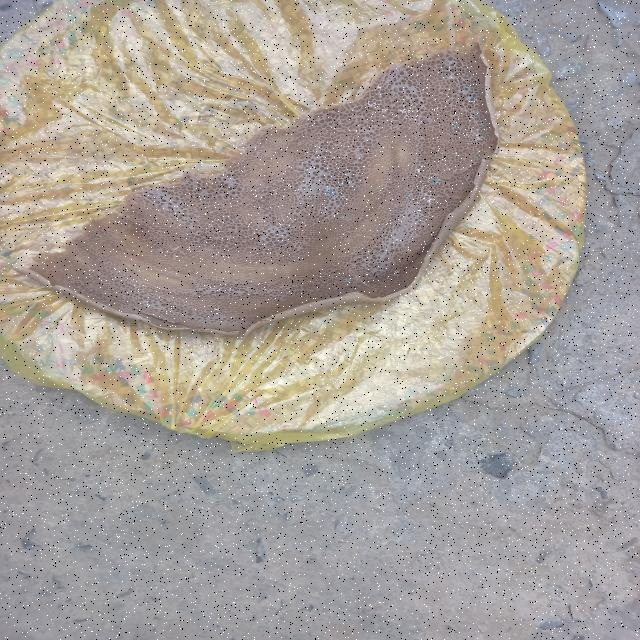injera_mold: (468, 127, 484, 145), (397, 104, 412, 120), (365, 95, 382, 108), (424, 193, 434, 206), (428, 176, 442, 185), (392, 268, 402, 277), (468, 94, 478, 102), (451, 122, 462, 129), (326, 188, 335, 196), (466, 114, 475, 121), (340, 195, 350, 201), (343, 278, 354, 283), (376, 84, 383, 90), (213, 307, 221, 312), (484, 134, 490, 140), (341, 215, 348, 220), (481, 110, 489, 114), (416, 168, 422, 173), (452, 115, 461, 118), (406, 194, 411, 199), (474, 110, 479, 115), (470, 180, 476, 184), (482, 122, 488, 126), (464, 87, 470, 91), (401, 178, 405, 181), (394, 239, 399, 241), (145, 301, 149, 303), (423, 243, 427, 245), (160, 314, 163, 316), (427, 120, 430, 122), (386, 108, 388, 110), (114, 297, 115, 299), (108, 305, 110, 306), (156, 298, 158, 299), (152, 300, 154, 301), (171, 310, 173, 311), (422, 166, 424, 167), (394, 116, 396, 117), (442, 115, 443, 116), (116, 304, 118, 304), (168, 308, 170, 308)
